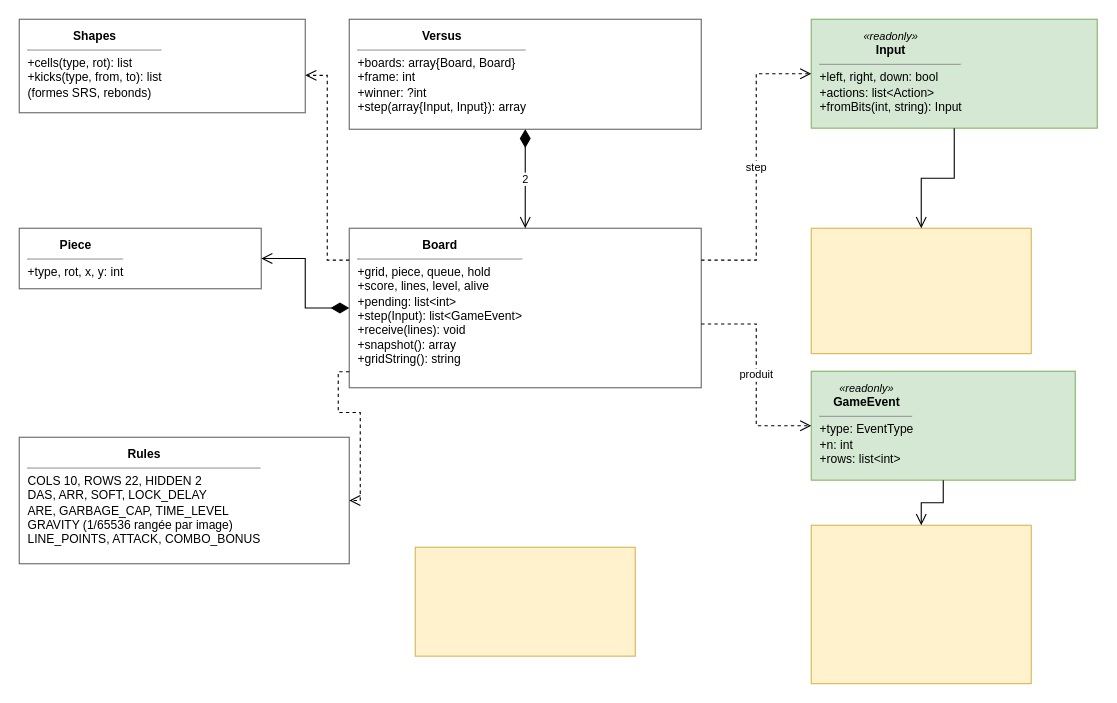
Some shapes in this 1117 by 703 pixel diagram are drawn without their labels. The centre of each missing label's shape, as x and y in pixels:
"«enumeration» Action Cw Ccw Hd Hold" belongs at [920,290].
"«enumeration» EventType Lock Clear Attack Garbage Hold Dead" belongs at [920,604].
"«enumeration» Side Left Right +opposite(): Side" belongs at [524,601].
